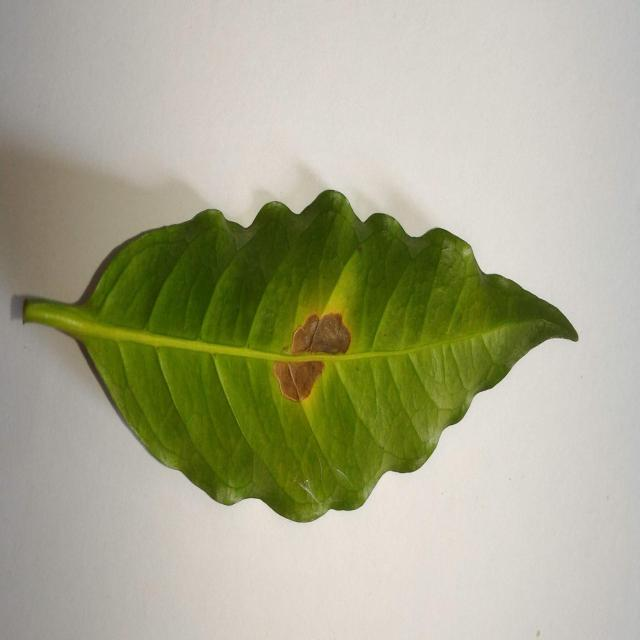Plaga-Minador: (19, 191, 579, 526)
